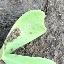Purslane: (0, 8, 63, 64)
